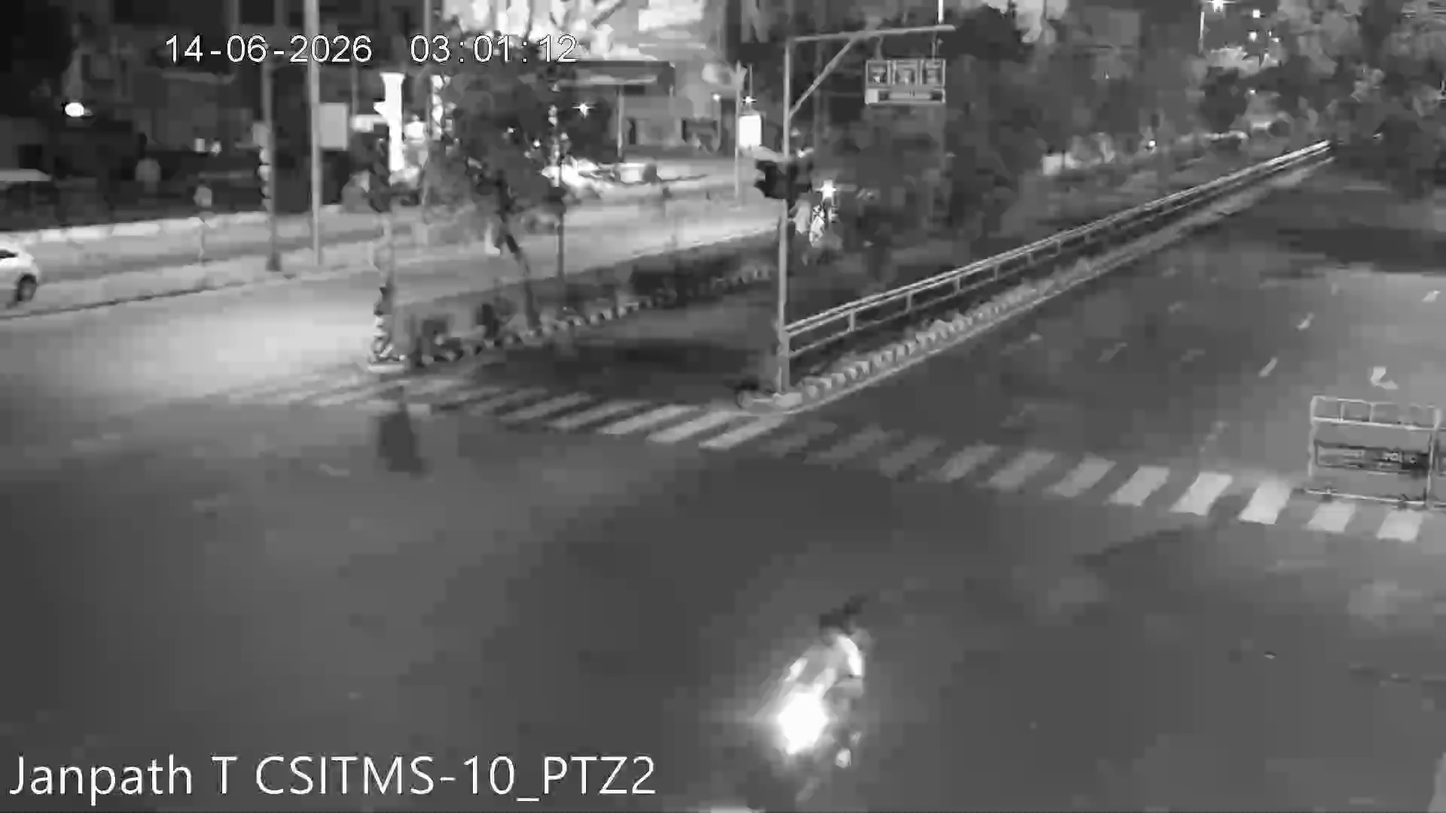car: (0, 230, 47, 324)
two_wheeler: (733, 598, 902, 794)
